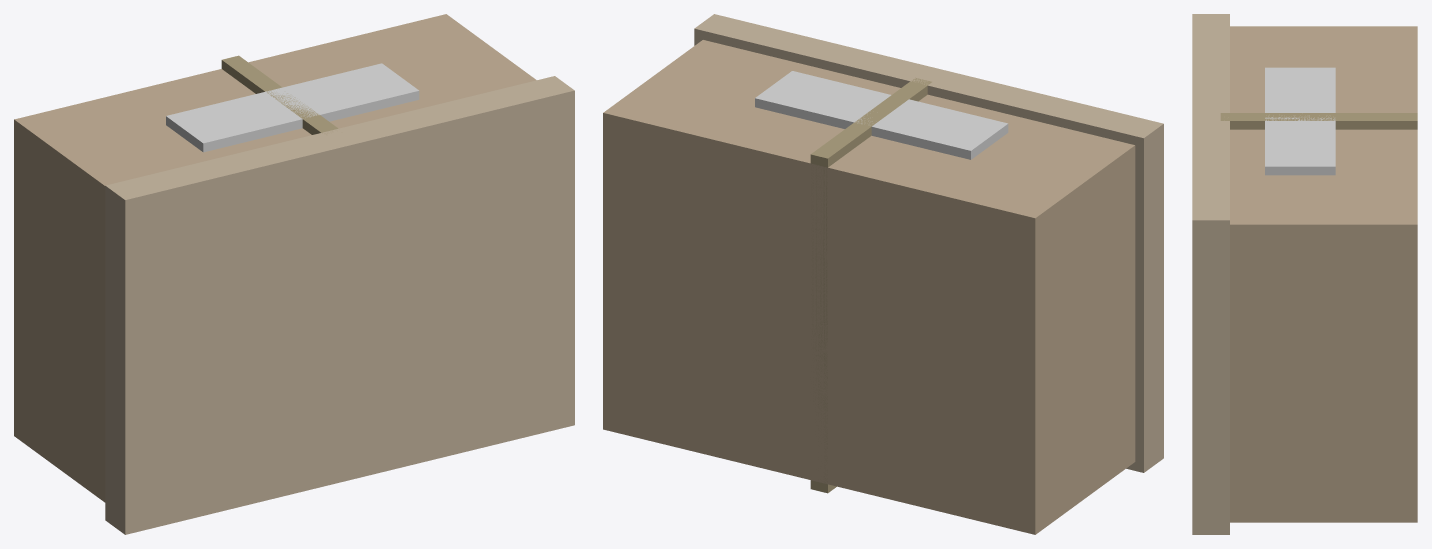
The model's file is scanbox_box_naked.glb.
3 renders of one model, left to right at view 1: azimuth 30°, elevation 25°; view 2: azimuth 150°, elevation 25°; view 3: azimuth 270°, elevation 25°, orthographic. The views are drawn at different scales.
Parts seen in each view (by area): view 1: box_lid, box_body, label, tape; view 2: box_body, box_lid, label, tape; view 3: box_body, box_lid, label, tape.
Boxes of the visible parts, x1,y1,x2,y2 form: box_lid: [105, 76, 574, 534]; box_body: [14, 14, 536, 502]; label: [166, 63, 419, 152]; tape: [221, 55, 338, 134]; box_body: [603, 40, 1135, 534]; box_lid: [694, 14, 1163, 472]; label: [755, 71, 1008, 159]; tape: [810, 77, 931, 493]; box_body: [1230, 26, 1417, 522]; box_lid: [1192, 14, 1229, 534]; label: [1265, 67, 1335, 175]; tape: [1220, 113, 1417, 129].
Size of the model in its own units: 1.04 by 0.74 by 0.48.
